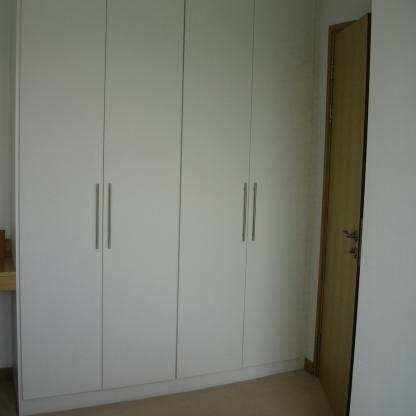door: (313, 28, 363, 406)
hinged: (316, 334, 322, 354), (330, 61, 335, 82), (328, 103, 332, 125)
lever: (340, 225, 360, 243)
